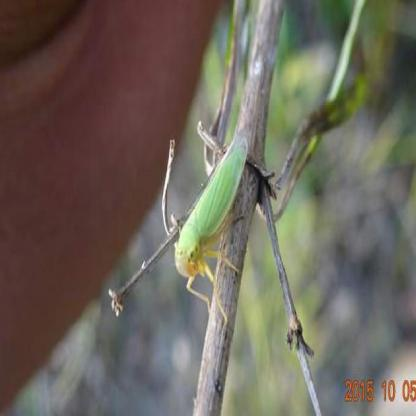Green-Leafhopper: (167, 127, 251, 328)
